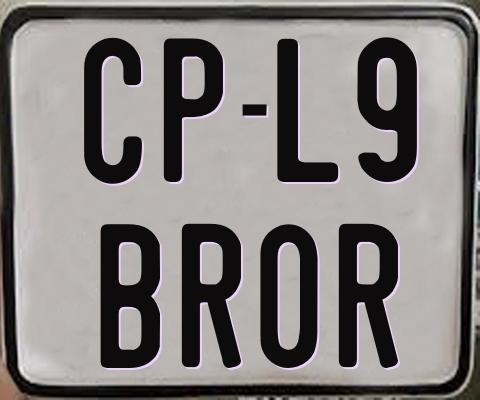0: (258, 223, 317, 367)
9: (354, 37, 417, 185)
B: (99, 222, 160, 372)
C: (84, 38, 147, 186)
L: (277, 36, 344, 183)
P: (162, 35, 221, 180)
R: (182, 223, 245, 373), (337, 223, 400, 371)
